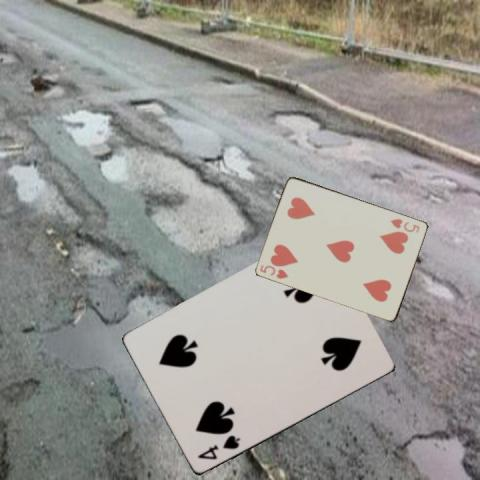4s: (194, 432, 242, 462)
5h: (388, 215, 421, 234), (257, 261, 290, 280)
